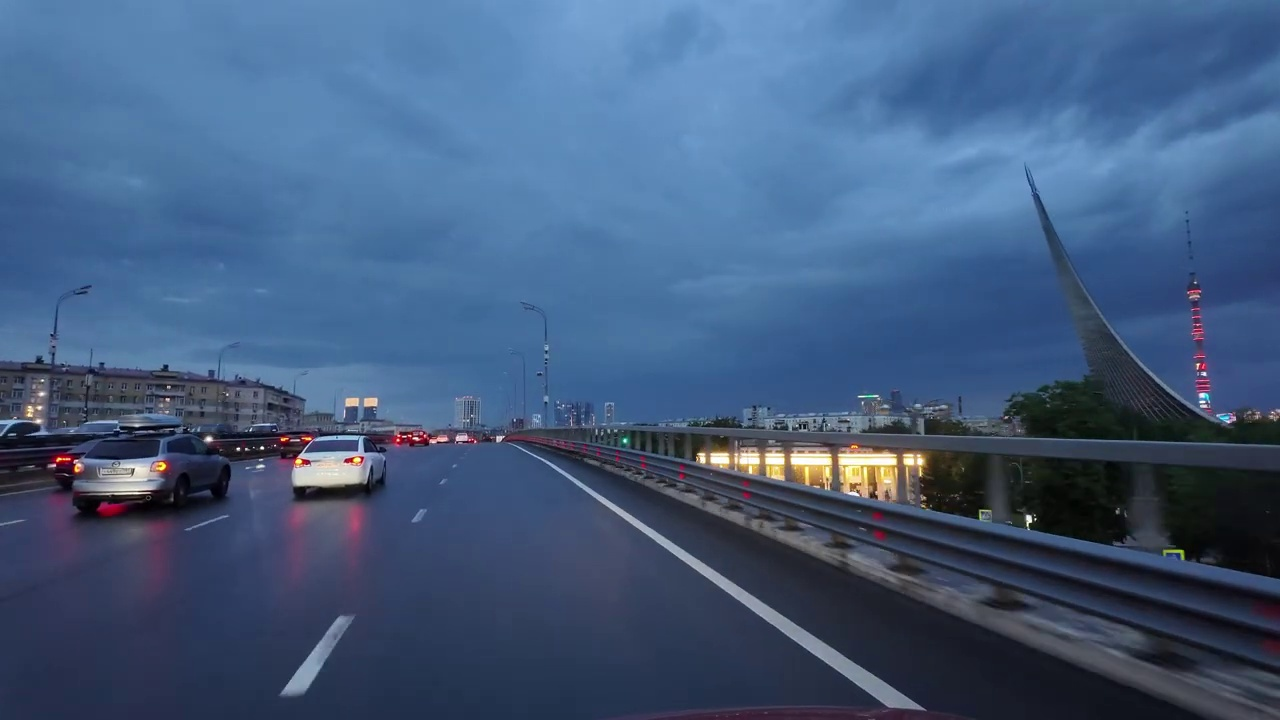apagada: (70, 282, 93, 302)
